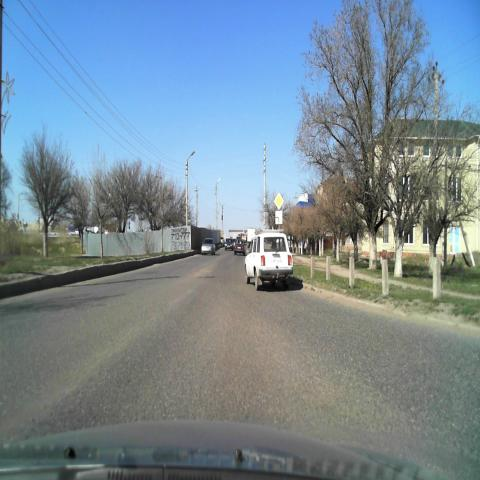8_13: (274, 210, 284, 224)
